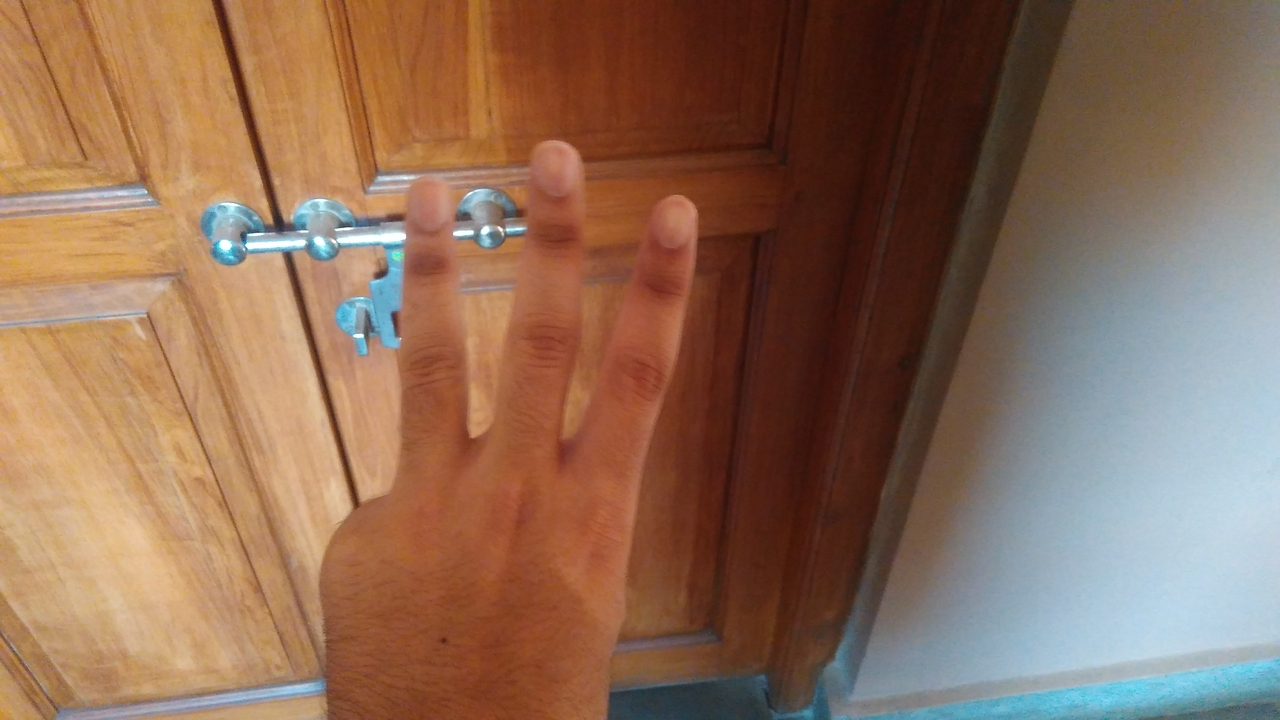fingertip: (514, 136, 588, 202), (632, 188, 702, 254), (394, 170, 452, 226)
